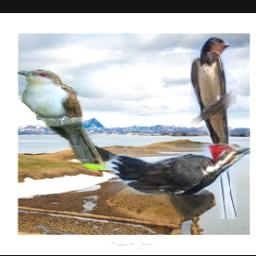Cuckoo: (16, 70, 106, 171)
Swallow: (191, 38, 236, 220)
Woodpecker: (110, 144, 251, 195)
